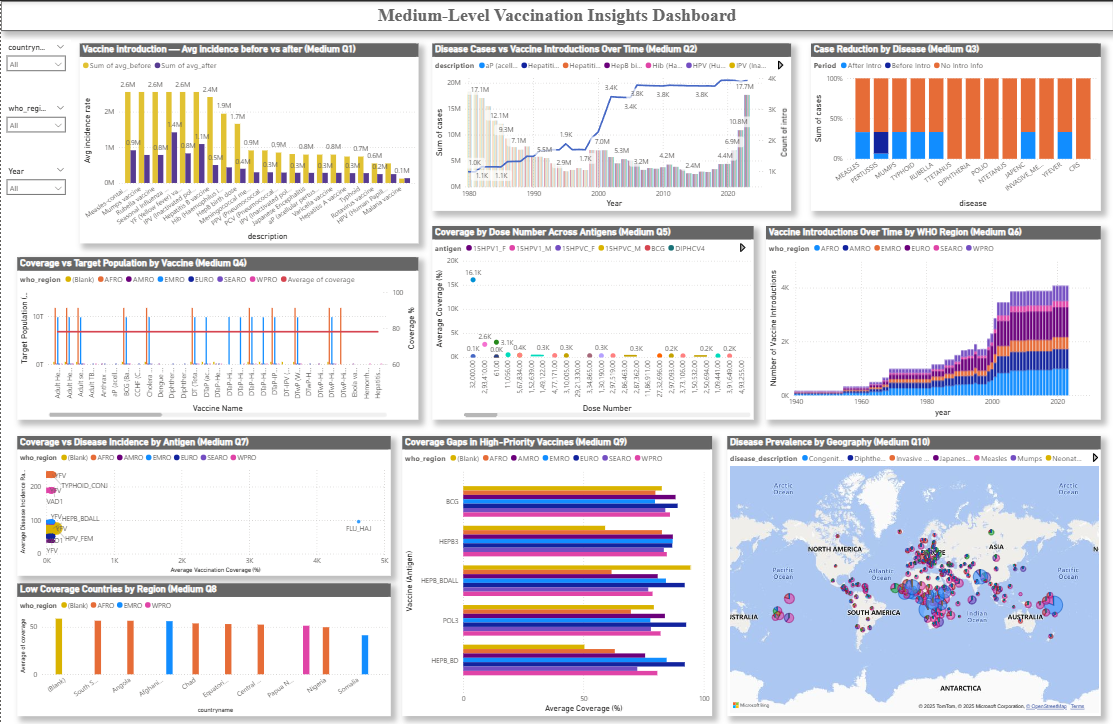

This screenshot's page, from the dashboard's own definition file:
{"tool":"powerbi","page":{"name":"Page 2","canvas":[2000,1300],"ordinal":1},"visuals":[{"type":"textbox","box":[0,0,1999,53.9],"z":0},{"type":"slicer","fields":{"Values":["DimCountry.countryname"]},"box":[0,69.6,125.8,110.1],"z":1000},{"type":"slicer","fields":{"Values":["DimCountry.who_region"]},"box":[0,179.7,125.8,94.3],"z":2000},{"type":"slicer","fields":{"Values":["DateTable.Year"]},"box":[0,292,125.8,85.3],"z":3000},{"type":"clusteredColumnChart","title":"Vaccine introduction — Avg incidence before vs after (Medium Q1)","fields":{"Category":["IntroIncidence.description"],"Y":["Sum(IntroIncidence.avg_before)","Sum(IntroIncidence.avg_after)"]},"box":[141.5,76.4,608.7,359.4],"z":4000},{"type":"lineClusteredColumnComboChart","title":"Disease Cases vs Vaccine Introductions Over Time (Medium Q2)","fields":{"Category":["DateTable.Year"],"Y":["Sum(vaccination reported_cases_data.cases)"],"Y2":["CountNonNull(vaccination vaccine_introduction_data.intro)"],"Series":["vaccination vaccine_introduction_data.description"]},"box":[774.9,76.4,644.6,301],"z":5000},{"type":"hundredPercentStackedColumnChart","title":"Case Reduction by Disease (Medium Q3)","fields":{"Category":["vaccination reported_cases_data.disease"],"Y":["Sum(vaccination reported_cases_data.cases)"],"Series":["vaccination reported_cases_data.Period"]},"box":[1455.4,76.4,521.1,301],"z":6000},{"type":"lineClusteredColumnComboChart","title":"Coverage vs Target Population by Vaccine (Medium Q4)","fields":{"Category":["vaccination vaccine_schedule_data.vaccine_description"],"Y":["Sum(vaccination coverage_data.target_number)"],"Y2":["Avg(vaccination coverage_data.coverage)"],"Series":["DimCountry.who_region"]},"box":[29.2,460.4,721,292],"z":7000},{"type":"lineChart","title":"Coverage by Dose Number Across Antigens (Medium Q5)","fields":{"Category":["vaccination coverage_data.doses"],"Y":["Avg(vaccination coverage_data.coverage)"],"Series":["vaccination coverage_data.antigen"]},"box":[774.9,404.3,577.2,348.1],"z":8000},{"type":"columnChart","title":"Vaccine Introductions Over Time by WHO Region (Medium Q6)","fields":{"Category":["vaccination vaccine_introduction_data.year"],"Y":["CountNonNull(vaccination vaccine_introduction_data.description)"],"Series":["vaccination vaccine_introduction_data.who_region"]},"box":[1374.6,404.3,601.9,348.1],"z":9000},{"type":"scatterChart","title":"Coverage vs Disease Incidence by Antigen (Medium Q7)","fields":{"X":["Avg(vaccination coverage_data.coverage)"],"Y":["Avg(vaccination incidence_rate_data.incidence_rate)"],"Category":["vaccination coverage_data.antigen"],"Series":["DimCountry.who_region"],"Size":["Sum(vaccination reported_cases_data.cases)"]},"box":[29.2,781.6,671.6,251.6],"z":10000},{"type":"clusteredColumnChart","title":"Low Coverage Countries by Region (Medium Q8","fields":{"Category":["DimCountry.countryname"],"Y":["Avg(vaccination coverage_data.coverage)"],"Series":["DimCountry.who_region"]},"box":[29.2,1046.7,671.6,238.1],"z":11000},{"type":"clusteredBarChart","title":"Coverage Gaps in High-Priority Vaccines (Medium Q9)","fields":{"Category":["vaccination coverage_data.antigen"],"Series":["DimCountry.who_region"],"Y":["Avg(vaccination coverage_data.coverage)"]},"box":[721,781.6,557,503.1],"z":12000},{"type":"map","title":"Disease Prevalence by Geography (Medium Q10)","fields":{"Category":["DimCountry.countryname"],"Series":["vaccination incidence_rate_data.disease_description"],"Size":["Avg(vaccination incidence_rate_data.incidence_rate)"]},"box":[1304.9,781.6,671.6,503.1],"z":13000}]}

Visuals, with their boxes in screenshot pixels (x1, y1, x2, y2), scaled from the page's 2000x1300 canvas onto the 1113x724 screenshot:
textbox: bbox=[0, 0, 1112, 30]
slicer - DimCountry.countryname: bbox=[0, 39, 70, 100]
slicer - DimCountry.who_region: bbox=[0, 100, 70, 153]
slicer - DateTable.Year: bbox=[0, 163, 70, 210]
"Vaccine introduction — Avg incidence before vs after (Medium Q1)" clusteredColumnChart: bbox=[79, 43, 417, 243]
"Disease Cases vs Vaccine Introductions Over Time (Medium Q2)" lineClusteredColumnComboChart: bbox=[431, 43, 790, 210]
"Case Reduction by Disease (Medium Q3)" hundredPercentStackedColumnChart: bbox=[810, 43, 1100, 210]
"Coverage vs Target Population by Vaccine (Medium Q4)" lineClusteredColumnComboChart: bbox=[16, 256, 417, 419]
"Coverage by Dose Number Across Antigens (Medium Q5)" lineChart: bbox=[431, 225, 752, 419]
"Vaccine Introductions Over Time by WHO Region (Medium Q6)" columnChart: bbox=[765, 225, 1100, 419]
"Coverage vs Disease Incidence by Antigen (Medium Q7)" scatterChart: bbox=[16, 435, 390, 575]
"Low Coverage Countries by Region (Medium Q8" clusteredColumnChart: bbox=[16, 583, 390, 716]
"Coverage Gaps in High-Priority Vaccines (Medium Q9)" clusteredBarChart: bbox=[401, 435, 711, 715]
"Disease Prevalence by Geography (Medium Q10)" map: bbox=[726, 435, 1100, 715]
